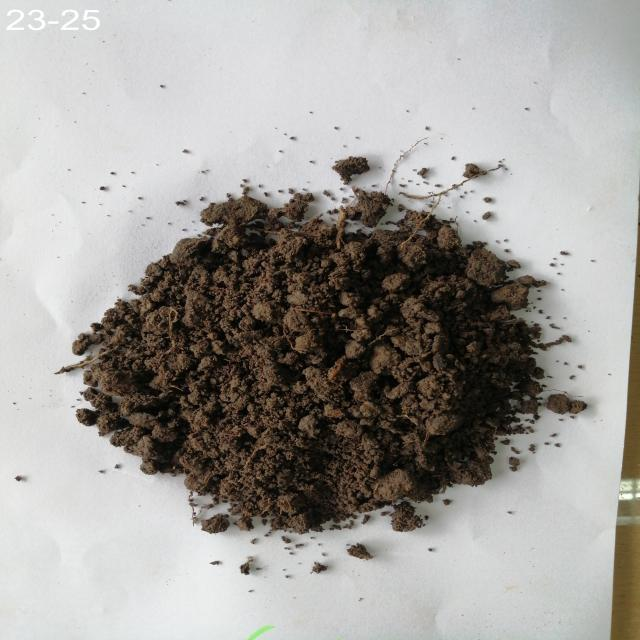soil: (205, 244, 488, 474)
